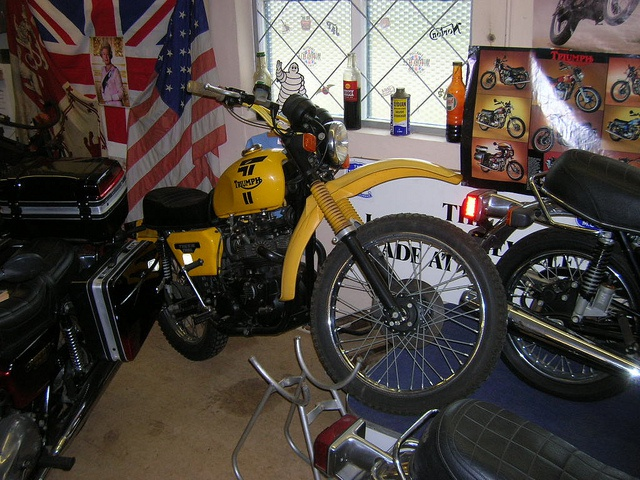non-vehicle: (133, 77, 503, 417), (230, 336, 633, 479), (0, 136, 164, 471), (459, 143, 639, 395), (474, 98, 526, 139), (473, 140, 524, 180), (481, 55, 528, 90)
